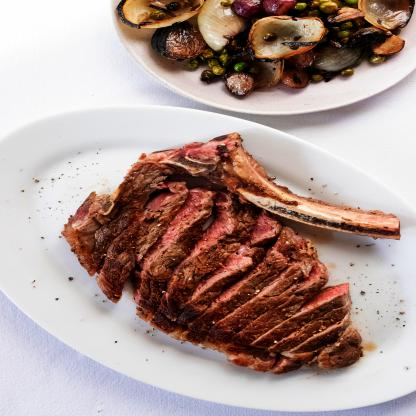Carne: (160, 210, 268, 329), (98, 182, 187, 296), (217, 262, 325, 348), (133, 197, 219, 304), (72, 161, 162, 260), (262, 291, 356, 359), (294, 322, 360, 370)
